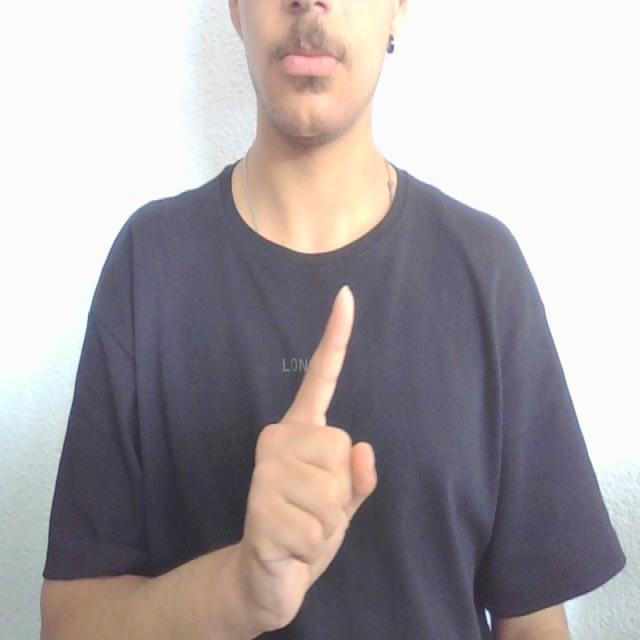Hayir: (231, 260, 401, 640)
